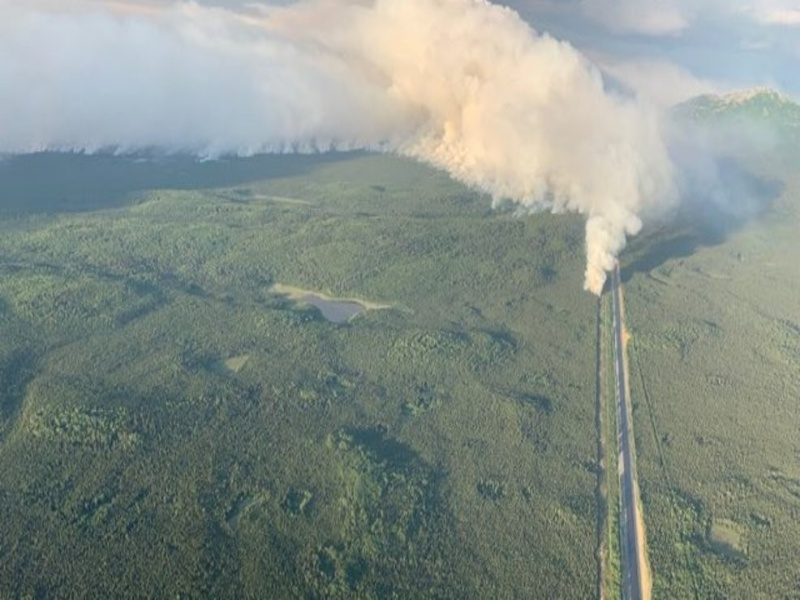smoke: (337, 1, 734, 212)
